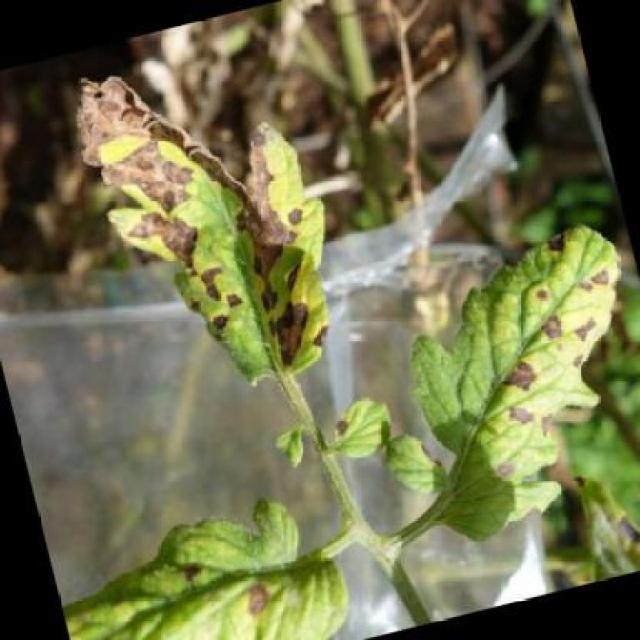Septoria leaf spot: (46, 11, 363, 428), (344, 208, 640, 566), (47, 473, 373, 640)
